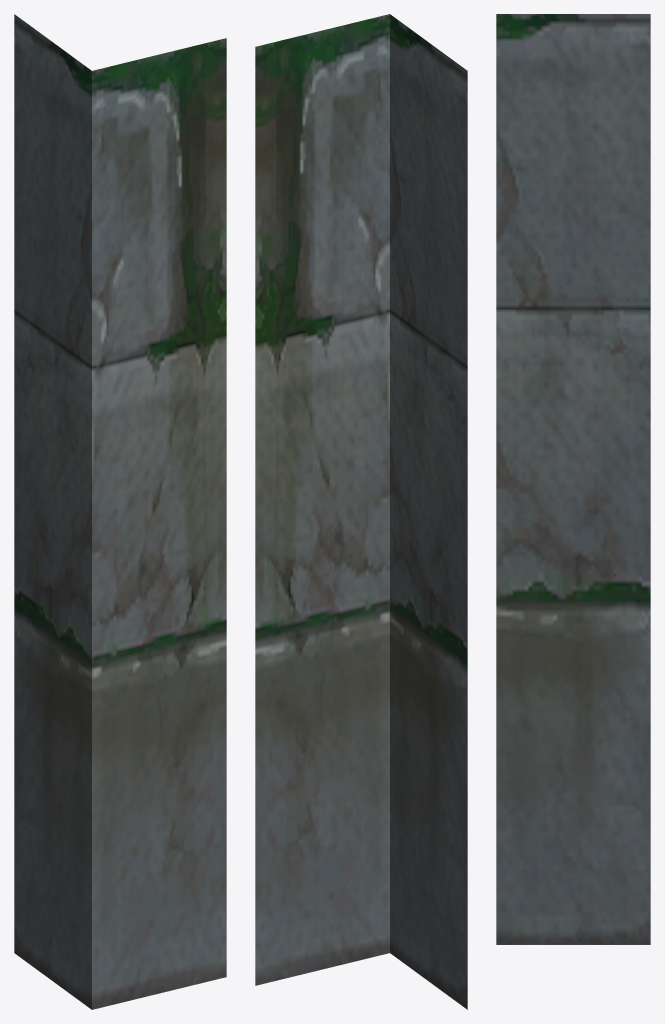
The model's file is stemple_half_convex_02.fbx.
3 renders of one model, left to right at view 1: azimuth 30°, elevation 25°; view 2: azimuth 210°, elevation 25°; view 3: azimuth 270°, elevation 25°, orthographic.
Parts seen in each view (by area): view 1: sunken_tileset/sunken_wall_straight04_mat; view 2: sunken_tileset/sunken_wall_straight04_mat; view 3: sunken_tileset/sunken_wall_straight04_mat.
Part boxes in pixels (x1,y1,x2,y2): sunken_tileset/sunken_wall_straight04_mat: (14,14,226,1009); sunken_tileset/sunken_wall_straight04_mat: (255,14,467,1009); sunken_tileset/sunken_wall_straight04_mat: (496,14,650,944).
Size of the model in its own units: 0.4128 by 2.75 by 0.4126.
